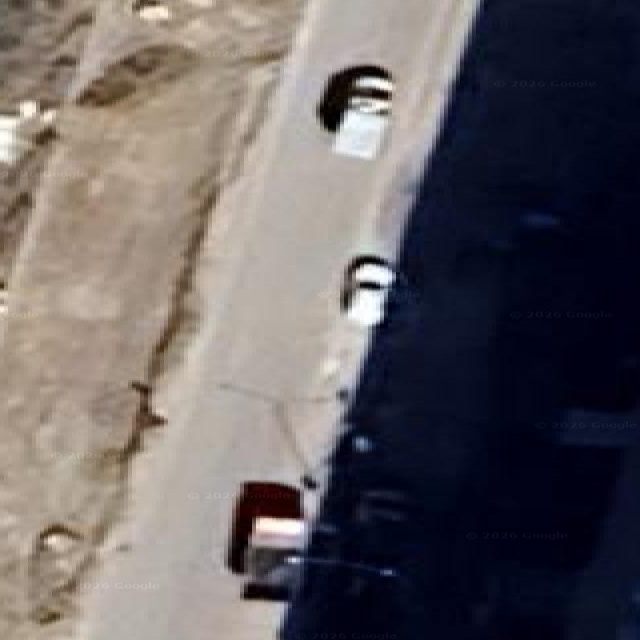car: (226, 460, 316, 599), (227, 482, 303, 599), (340, 255, 395, 326), (340, 255, 393, 327), (311, 508, 312, 510)
